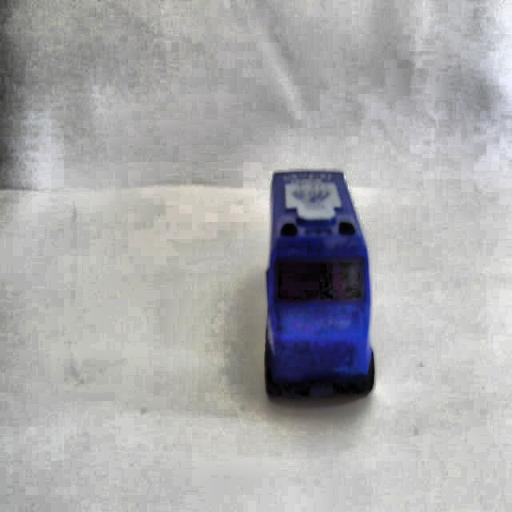police car: (258, 163, 383, 417)
